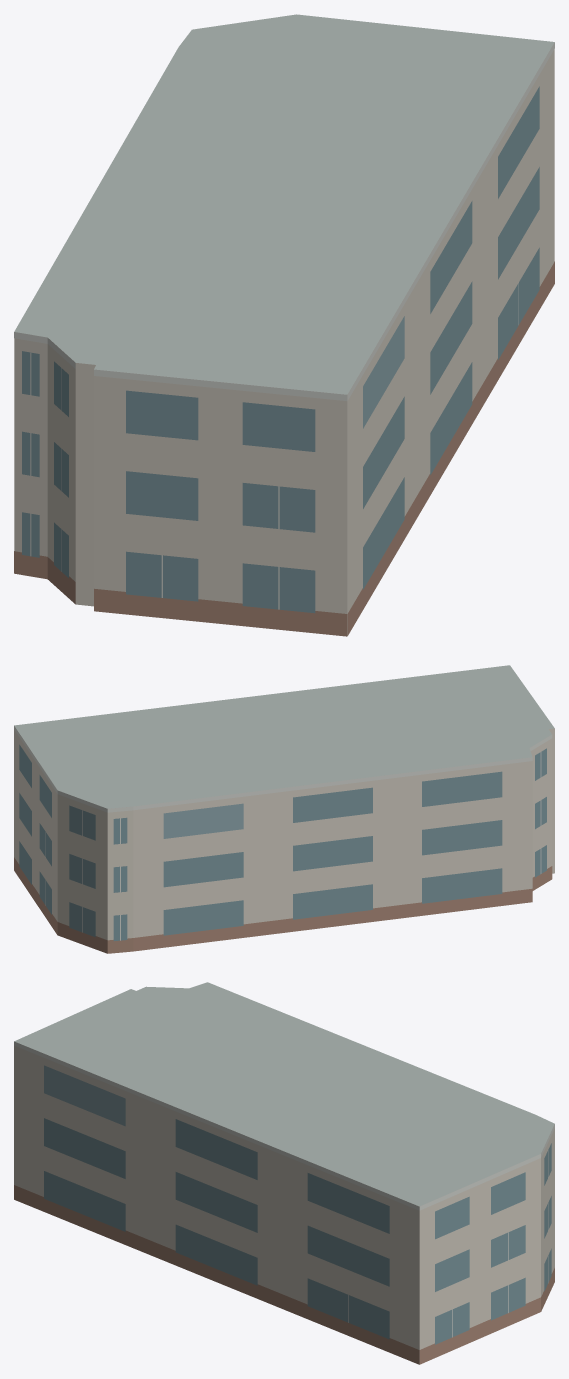
The model's file is survey-upis-32892493.glb.
The picture shows the model from 3 angles, top to bottom: view 1: azimuth 30°, elevation 25°; view 2: azimuth 150°, elevation 25°; view 3: azimuth 270°, elevation 25°; orthographic projection. The views are drawn at different scales.
Visible parts, largest first — view 1: survey-upis-32892493.tmp; view 2: survey-upis-32892493.tmp; view 3: survey-upis-32892493.tmp.
Part boxes in pixels (box(x1,y1,x2,y2)): survey-upis-32892493.tmp: box(14, 14, 554, 636); survey-upis-32892493.tmp: box(14, 665, 554, 953); survey-upis-32892493.tmp: box(14, 982, 554, 1364).
Bounding box in the file's own units: 27.84 × 9.15 × 28.35.
